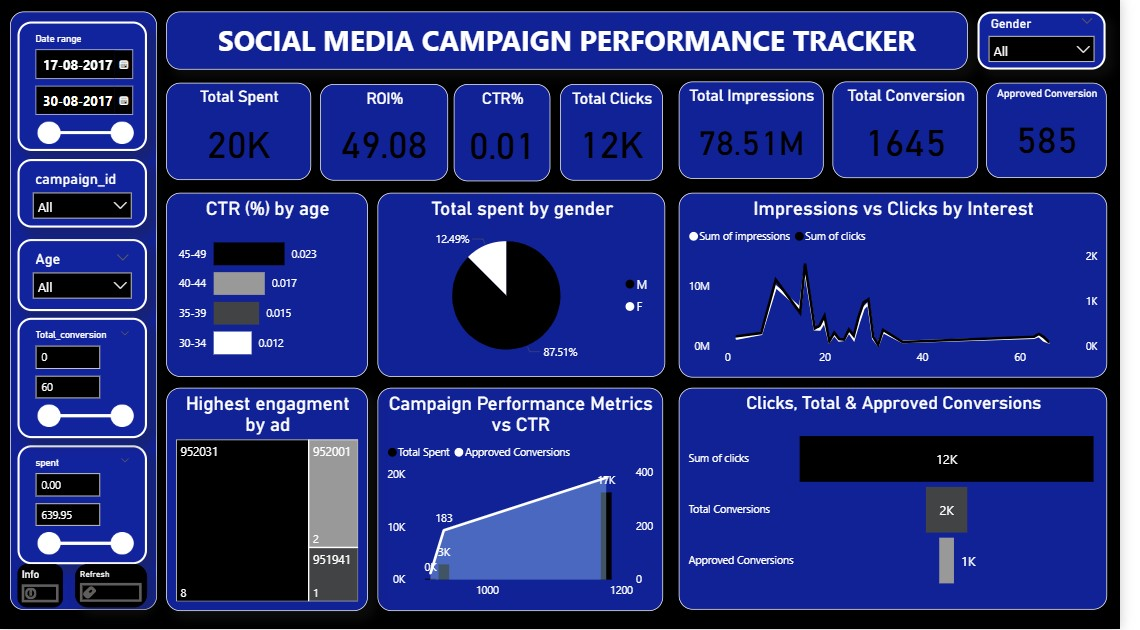

The dashboard page shown, as its layout file describes it:
{"tool":"powerbi","page":{"name":"Dashboard","canvas":[1280,720],"ordinal":0},"visuals":[{"type":"textbox","title":"SOCIAL MEDIA CAMPAIGN PERFORMANCE TRACKER","box":[189.9,14.5,915.9,66.7],"z":0},{"type":"card","title":"Total Impressions","fields":{"Values":["AdCampaign_Data.Total Impressions"]},"box":[775.4,94.2,165.2,111.6],"z":1000},{"type":"card","title":"Total Clicks","fields":{"Values":["AdCampaign_Data.Total Clicks"]},"box":[640.6,97.1,117.4,110.1],"z":2000},{"type":"card","title":"Total Spent","fields":{"Values":["AdCampaign_Data.Total Spent"]},"box":[189.9,95.7,165.2,111.6],"z":3000},{"type":"card","title":"CTR%","fields":{"Values":["AdCampaign_Data.Avg CTR (%)"]},"box":[518.8,97.1,110.1,111.6],"z":4000},{"type":"card","title":"Total Conversion","fields":{"Values":["AdCampaign_Data.Total Conversions"]},"box":[950.7,94.2,166.7,110.1],"z":5000},{"type":"card","title":"Approved Conversion","fields":{"Values":["AdCampaign_Data.Approved Conversions"]},"box":[1127.5,95.7,137.7,108.7],"z":6000},{"type":"clusteredBarChart","title":"CTR (%) by age","fields":{"Category":["AdCampaign_Data.age"],"Y":["AdCampaign_Data.CTR (%)"]},"box":[189.9,221.7,230.4,210.1],"z":7000},{"type":"lineChart","title":"Impressions vs Clicks by Interest","fields":{"Category":["AdCampaign_Data.interest1"],"Y":["Sum(AdCampaign_Data.impressions)"],"Y2":["Sum(AdCampaign_Data.clicks)"]},"box":[775.4,221.7,489.9,211.6],"z":8000},{"type":"funnel","title":"Clicks, Total & Approved Conversions","fields":{"Y":["Sum(AdCampaign_Data.clicks)","AdCampaign_Data.Total Conversions","AdCampaign_Data.Approved Conversions"]},"box":[775.4,444.9,489.9,253.6],"z":9000},{"type":"pieChart","title":"Total spent by gender","fields":{"Category":["AdCampaign_Data.gender"],"Y":["AdCampaign_Data.Total Spent"]},"box":[431.9,221.7,329,210.1],"z":10000},{"type":"lineClusteredColumnComboChart","title":"Campaign Performance Metrics vs CTR","fields":{"Category":["AdCampaign_Data.campaign_id"],"Y":["AdCampaign_Data.Total Spent"],"Y2":["AdCampaign_Data.Approved Conversions"]},"box":[431.9,444.9,326.1,255.1],"z":11000},{"type":"textbox","box":[11.6,14.5,168.1,684.1],"z":12000},{"type":"slicer","title":"Date range","fields":{"Values":["AdCampaign_Data.reporting_start"]},"box":[20.3,26.1,147.8,147.8],"z":13000},{"type":"slicer","title":"Age ","fields":{"Values":["AdCampaign_Data.age"]},"box":[20.3,273.9,147.8,82.6],"z":14000},{"type":"slicer","title":"Campaign-ID","fields":{"Values":["AdCampaign_Data.campaign_id"]},"box":[20.3,182.6,147.8,78.3],"z":15000},{"type":"slicer","title":"Spent","fields":{"Values":["AdCampaign_Data.spent"]},"box":[20.3,510.1,147.8,136.2],"z":16000},{"type":"slicer","title":"Conversion range","fields":{"Values":["AdCampaign_Data.total_conversion"]},"box":[20.3,363.8,147.8,137.7],"z":17000},{"type":"card","title":"ROI%","fields":{"Values":["AdCampaign_Data.ROI (%)"]},"box":[365.2,97.1,146.4,110.1],"z":18000},{"type":"slicer","title":"Gender","fields":{"Values":["AdCampaign_Data.gender"]},"box":[1117.4,14.5,146.4,66.7],"z":19000},{"type":"actionButton","title":"Refresh","box":[85.5,646.4,82.6,49.3],"z":20000},{"type":"actionButton","title":"Info","box":[20.3,646.4,52.2,49.3],"z":21000},{"type":"treemap","title":"Highest engagment by ad","fields":{"Group":["AdCampaign_Data.ad_id"],"Values":["Sum(AdCampaign_Data.clicks)"]},"box":[189.9,444.9,230.4,255.1],"z":22000}]}

Visuals, with their boxes in screenshot pixels (x1, y1, x2, y2), scaled from the page's 1280x720 canvas onto the 1140x630 screenshot:
"SOCIAL MEDIA CAMPAIGN PERFORMANCE TRACKER" textbox: [x1=169, y1=13, x2=985, y2=71]
"Total Impressions" card: [x1=691, y1=82, x2=838, y2=180]
"Total Clicks" card: [x1=571, y1=85, x2=675, y2=181]
"Total Spent" card: [x1=169, y1=84, x2=316, y2=181]
"CTR%" card: [x1=462, y1=85, x2=560, y2=183]
"Total Conversion" card: [x1=847, y1=82, x2=995, y2=179]
"Approved Conversion" card: [x1=1004, y1=84, x2=1127, y2=179]
"CTR (%) by age" clusteredBarChart: [x1=169, y1=194, x2=374, y2=378]
"Impressions vs Clicks by Interest" lineChart: [x1=691, y1=194, x2=1127, y2=379]
"Clicks, Total & Approved Conversions" funnel: [x1=691, y1=389, x2=1127, y2=611]
"Total spent by gender" pieChart: [x1=385, y1=194, x2=678, y2=378]
"Campaign Performance Metrics vs CTR" lineClusteredColumnComboChart: [x1=385, y1=389, x2=675, y2=612]
textbox: [x1=10, y1=13, x2=160, y2=611]
"Date range" slicer: [x1=18, y1=23, x2=150, y2=152]
"Age " slicer: [x1=18, y1=240, x2=150, y2=312]
"Campaign-ID" slicer: [x1=18, y1=160, x2=150, y2=228]
"Spent" slicer: [x1=18, y1=446, x2=150, y2=566]
"Conversion range" slicer: [x1=18, y1=318, x2=150, y2=439]
"ROI%" card: [x1=325, y1=85, x2=456, y2=181]
"Gender" slicer: [x1=995, y1=13, x2=1126, y2=71]
"Refresh" actionButton: [x1=76, y1=566, x2=150, y2=609]
"Info" actionButton: [x1=18, y1=566, x2=65, y2=609]
"Highest engagment by ad" treemap: [x1=169, y1=389, x2=374, y2=612]
